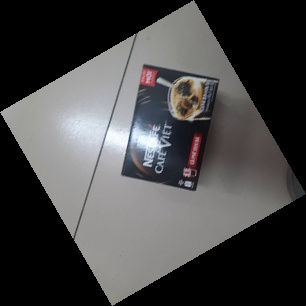CF Viet: (120, 64, 221, 192)
